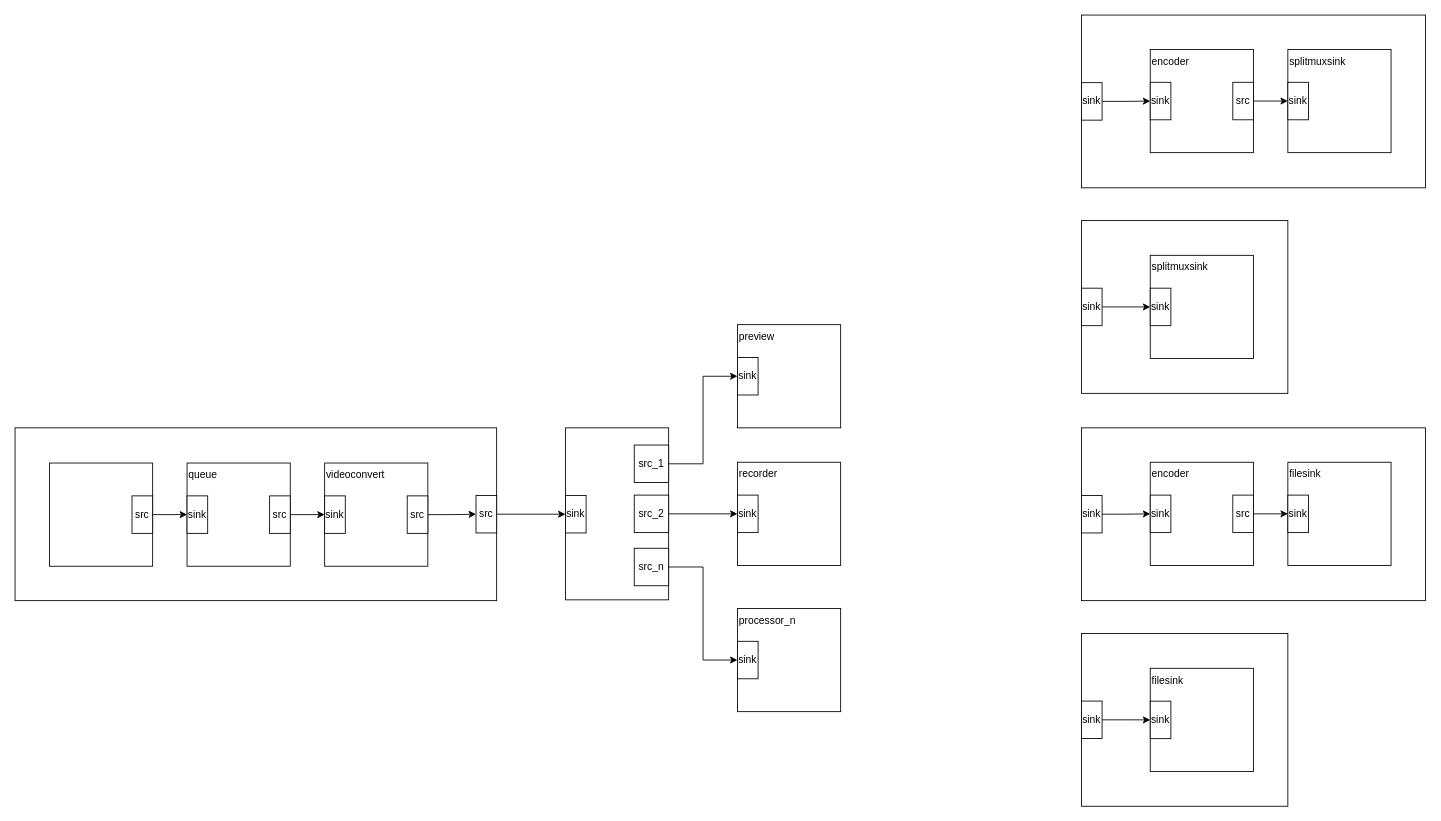
Image size: 1441x821. Some labels were removed from this diagram. The shapes that lost their labels are listed below. From the top down, each one's box as (x1, y1, x2, y2) in pixels, then its label:
(1081, 14, 1425, 188): VideoEncodedClipper
(1081, 220, 1288, 393): VideoRawClipper
(49, 462, 153, 566): mfvideosrc
(14, 427, 497, 601): VideoSource
(565, 427, 669, 600): tee
(1081, 427, 1425, 601): VideoEncodedRecorder
(1081, 633, 1288, 806): VideoRawRecorder
